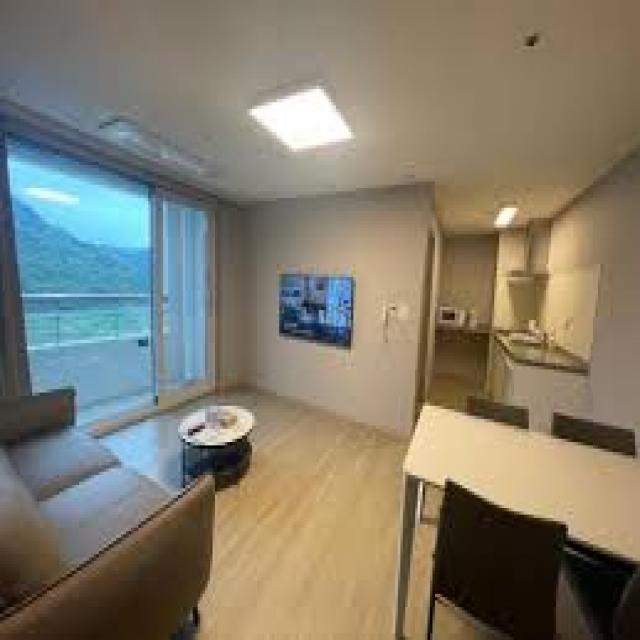Chair: (430, 473, 564, 635)
Sofa: (5, 387, 214, 636)
Table: (402, 401, 640, 628), (170, 401, 255, 488)
tv: (279, 271, 357, 353)
window: (2, 131, 225, 400)
